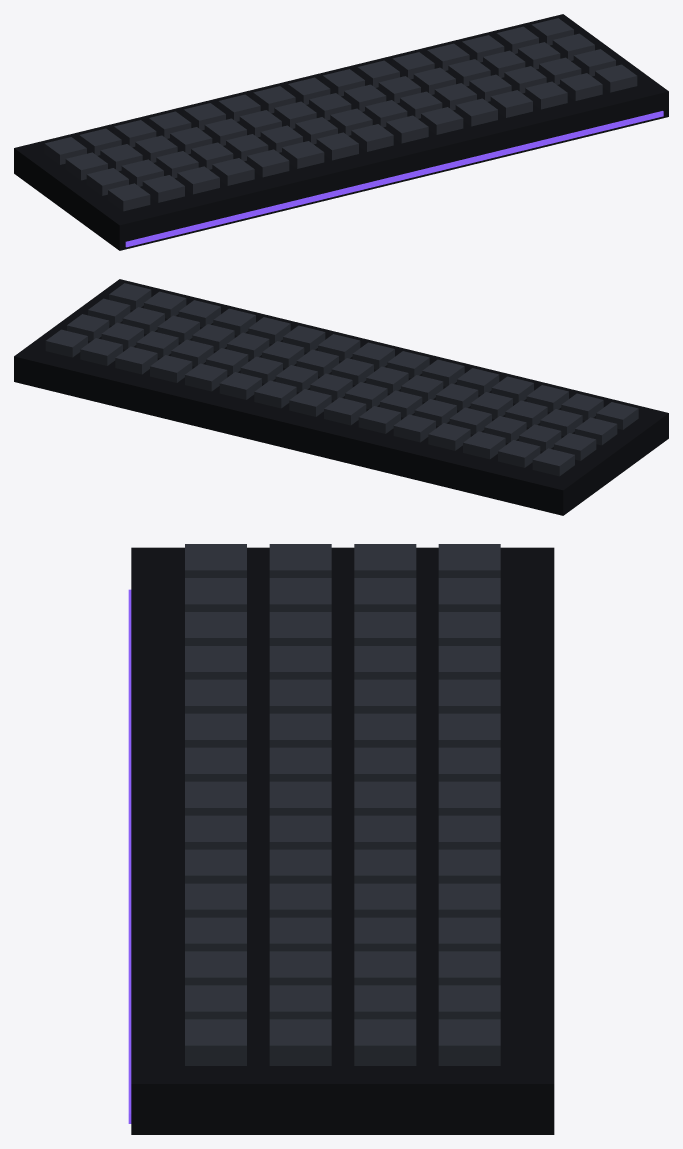
Rendered from Tech_Keyboard.glb.
3 renders of one model, top to bottom at view 1: azimuth 30°, elevation 25°; view 2: azimuth 150°, elevation 25°; view 3: azimuth 270°, elevation 25°, orthographic. The views are drawn at different scales.
Visible parts, largest first — view 1: Tech_Keyboard; view 2: Tech_Keyboard; view 3: Tech_Keyboard.
Part boxes in pixels (bbox=[...]): Tech_Keyboard: bbox=[14, 14, 668, 250]; Tech_Keyboard: bbox=[14, 279, 668, 515]; Tech_Keyboard: bbox=[128, 544, 554, 1134].
Bounding box in the file's own units: 0.45 × 0.028 × 0.151.
